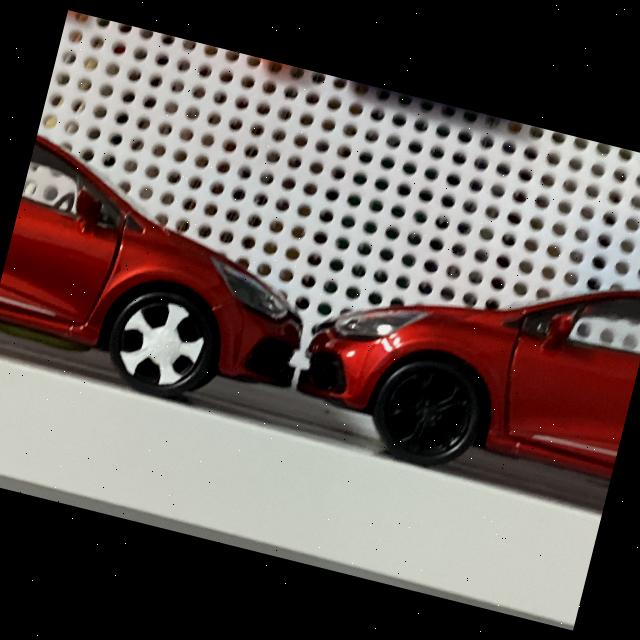Dogru_Jant: (381, 365, 474, 460)
Yanlis_Jant: (110, 292, 211, 394)
